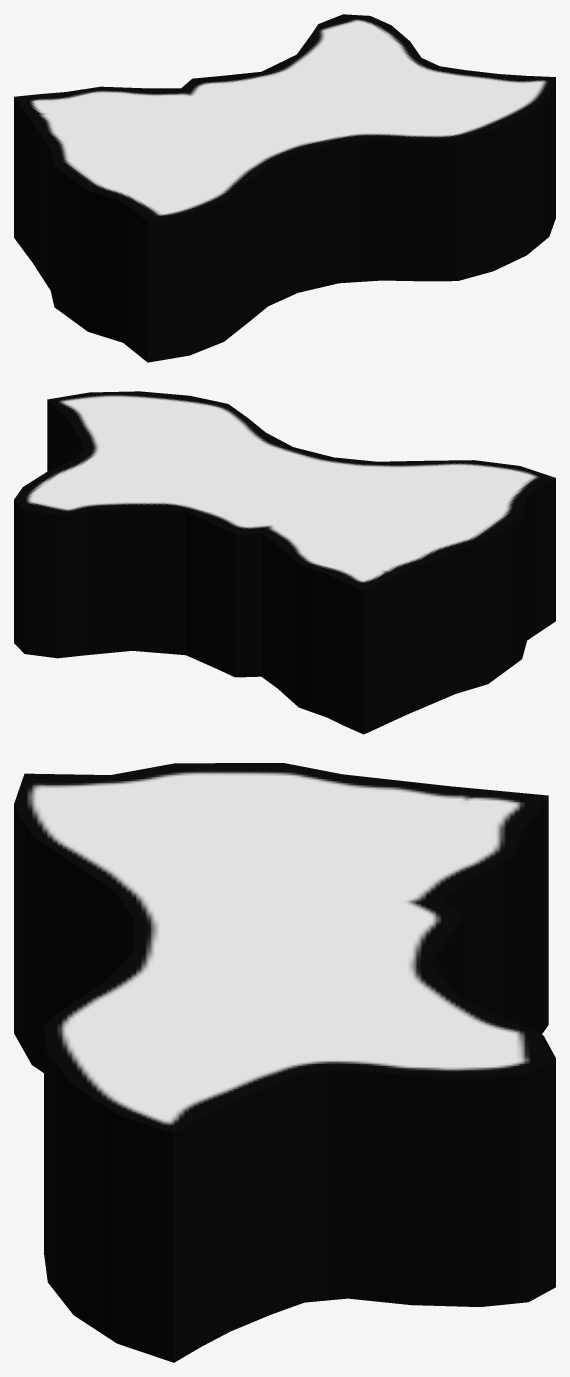
The picture shows the model from 3 angles, top to bottom: view 1: azimuth 30°, elevation 25°; view 2: azimuth 150°, elevation 25°; view 3: azimuth 270°, elevation 25°; orthographic projection. The views are drawn at different scales.
Visible parts, largest first — view 1: polySurface48; view 2: polySurface48; view 3: polySurface48.
Boxes of the visible parts, left/top/right/bottom form: polySurface48: left=14, top=14, right=555, bottom=362; polySurface48: left=14, top=391, right=555, bottom=734; polySurface48: left=14, top=763, right=555, bottom=1362.
Bounding box in the file's own units: 1.74 × 0.5 × 1.07.
